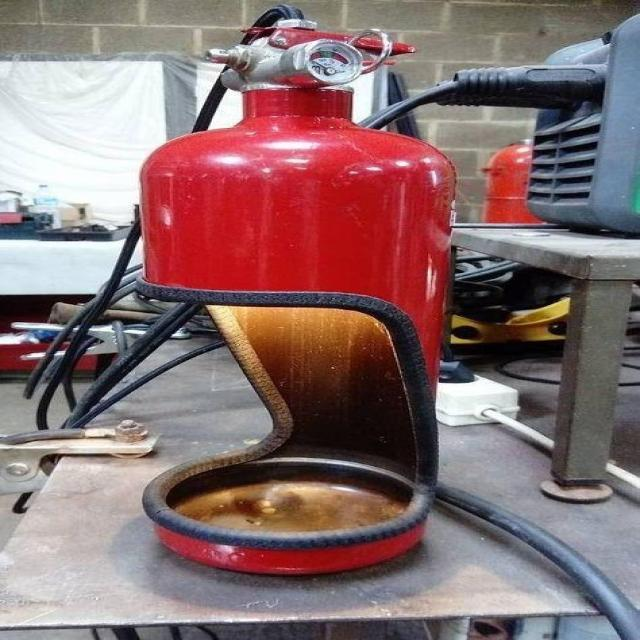fire_extinguisher: (132, 8, 466, 578), (472, 129, 588, 304)
